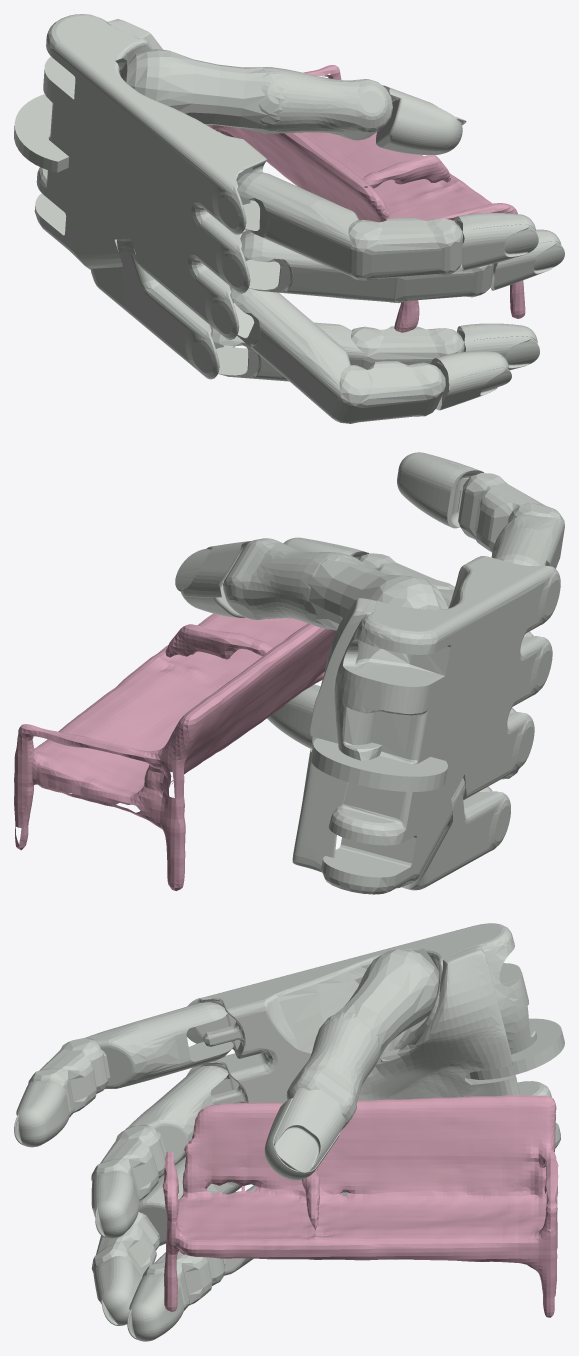
3 renders of one model, top to bottom at view 1: azimuth 30°, elevation 25°; view 2: azimuth 150°, elevation 25°; view 3: azimuth 270°, elevation 25°, orthographic. The views are drawn at different scales.
Parts seen in each view (by area): view 1: hand_isaac_q, world; view 2: hand_isaac_q, world; view 3: hand_isaac_q, world.
Boxes of the visible parts, box(x1,y1,x2,y2) form: hand_isaac_q: box(14, 14, 564, 423); world: box(207, 65, 525, 332); hand_isaac_q: box(175, 452, 564, 894); world: box(14, 613, 336, 890); hand_isaac_q: box(14, 923, 564, 1341); world: box(162, 1095, 558, 1317).
Bounding box in the file's own units: 0.1326 × 0.1073 × 0.1827.
